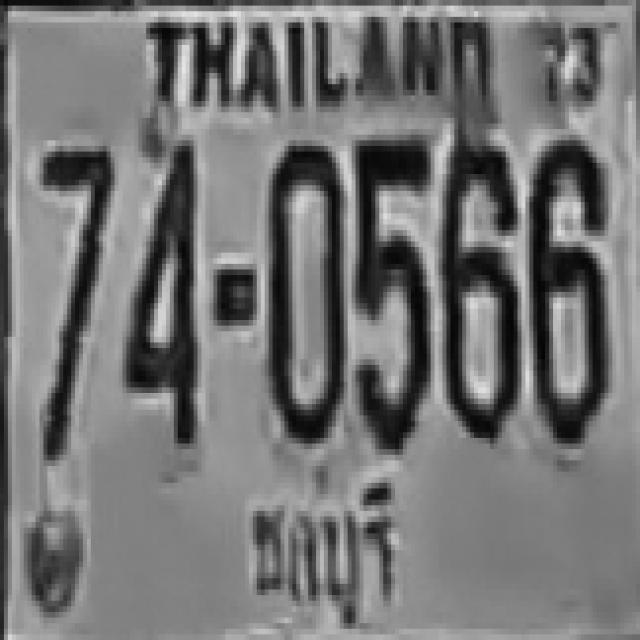0: (264, 140, 340, 438)
4: (120, 129, 196, 444)
5: (352, 134, 426, 443), (352, 134, 426, 382)
6: (438, 132, 518, 435), (526, 135, 604, 438)
7: (40, 146, 110, 427), (40, 143, 110, 373), (40, 143, 110, 340), (40, 143, 110, 323)
Chonburi: (229, 461, 404, 633)
